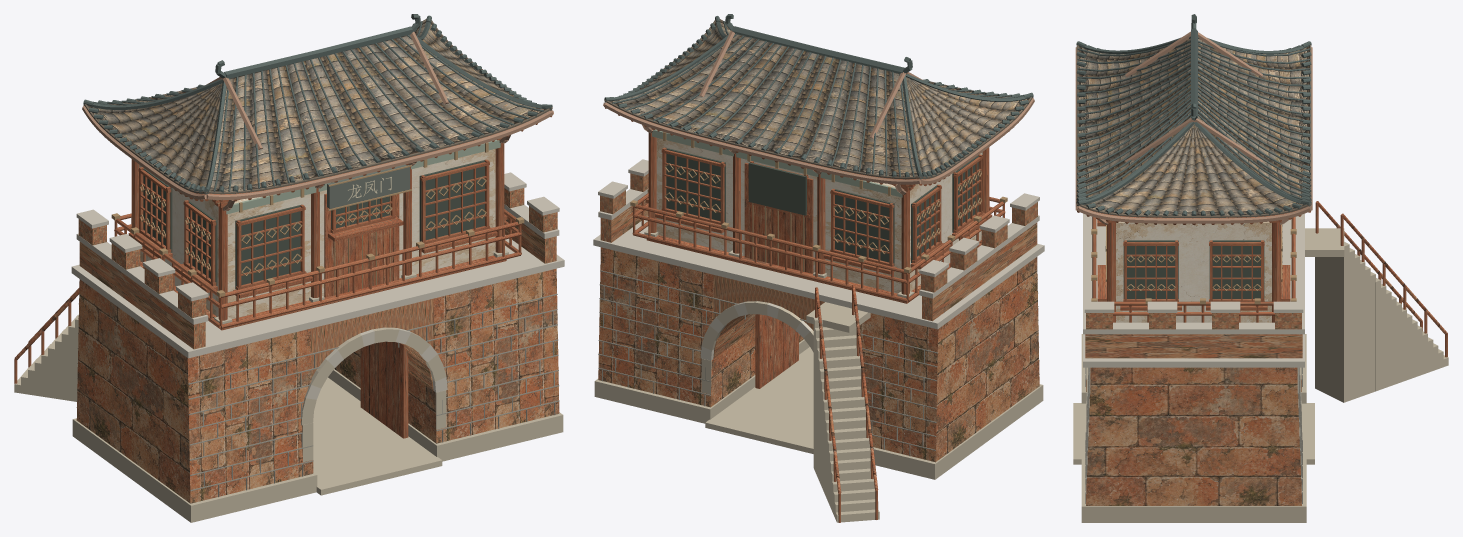
3 renders of one model, left to right at view 1: azimuth 30°, elevation 25°; view 2: azimuth 150°, elevation 25°; view 3: azimuth 270°, elevation 25°, orthographic. The views are drawn at different scales.
Parts seen in each view (by area): view 1: longfengmen__painted_city_brick, longfengmen__painted_cedar, longfengmen__painted_roof, longfengmen__warm_limestone, longfengmen__stone_cap, longfengmen__tile_ridges, longfengmen__deep_recess, longfengmen__painted_plaster, longfengmen__mortar_ink, longfengmen__timber_highlight, longfengmen__gate_plaque, longfengmen__chibi_ink (+1 smaller); view 2: longfengmen__painted_city_brick, longfengmen__painted_cedar, longfengmen__painted_roof, longfengmen__warm_limestone, longfengmen__tile_ridges, longfengmen__stone_cap, longfengmen__deep_recess, longfengmen__painted_plaster, longfengmen__mortar_ink, longfengmen__timber_highlight, longfengmen__chibi_celadon, longfengmen__chibi_ink; view 3: longfengmen__painted_city_brick, longfengmen__painted_roof, longfengmen__warm_limestone, longfengmen__tile_ridges, longfengmen__painted_cedar, longfengmen__stone_cap, longfengmen__painted_plaster, longfengmen__deep_recess, longfengmen__chibi_ink, longfengmen__timber_highlight, longfengmen__mortar_ink.
Part boxes in pixels (left/top/right/bottom): longfengmen__painted_city_brick: left=76, top=188, right=559, bottom=503; longfengmen__painted_cedar: left=14, top=31, right=553, bottom=438; longfengmen__painted_roof: left=88, top=21, right=546, bottom=191; longfengmen__warm_limestone: left=14, top=249, right=563, bottom=522; longfengmen__stone_cap: left=71, top=172, right=564, bottom=399; longfengmen__tile_ridges: left=83, top=14, right=552, bottom=194; longfengmen__deep_recess: left=143, top=160, right=484, bottom=289; longfengmen__painted_plaster: left=139, top=149, right=495, bottom=319; longfengmen__mortar_ink: left=76, top=293, right=559, bottom=497; longfengmen__timber_highlight: left=111, top=103, right=524, bottom=296; longfengmen__gate_plaque: left=327, top=164, right=409, bottom=208; longfengmen__chibi_ink: left=84, top=19, right=552, bottom=396; longfengmen__painted_city_brick: left=598, top=173, right=1039, bottom=462; longfengmen__painted_cedar: left=603, top=30, right=1034, bottom=522; longfengmen__painted_roof: left=610, top=21, right=1029, bottom=176; longfengmen__warm_limestone: left=594, top=230, right=1043, bottom=522; longfengmen__tile_ridges: left=604, top=14, right=1033, bottom=179; longfengmen__stone_cap: left=593, top=159, right=1044, bottom=360; longfengmen__deep_recess: left=665, top=147, right=978, bottom=265; longfengmen__painted_plaster: left=656, top=138, right=982, bottom=293; longfengmen__mortar_ink: left=598, top=270, right=1039, bottom=456; longfengmen__timber_highlight: left=630, top=95, right=1007, bottom=273; longfengmen__chibi_celadon: left=652, top=129, right=902, bottom=197; longfengmen__chibi_ink: left=604, top=19, right=1032, bottom=349; longfengmen__painted_city_brick: left=1085, top=313, right=1302, bottom=505; longfengmen__painted_roof: left=1079, top=38, right=1308, bottom=215; longfengmen__warm_limestone: left=1073, top=228, right=1448, bottom=522; longfengmen__tile_ridges: left=1076, top=14, right=1311, bottom=215; longfengmen__painted_cedar: left=1075, top=31, right=1447, bottom=357; longfengmen__stone_cap: left=1083, top=213, right=1304, bottom=403; longfengmen__painted_plaster: left=1116, top=221, right=1271, bottom=322; longfengmen__deep_recess: left=1123, top=240, right=1264, bottom=298; longfengmen__chibi_ink: left=1076, top=45, right=1311, bottom=217; longfengmen__timber_highlight: left=1091, top=124, right=1296, bottom=304; longfengmen__mortar_ink: left=1085, top=367, right=1302, bottom=503.
Bounding box in the file's own units: 11.02 × 11.11 × 10.02.
Materials: 14 (4 with a texture image).
